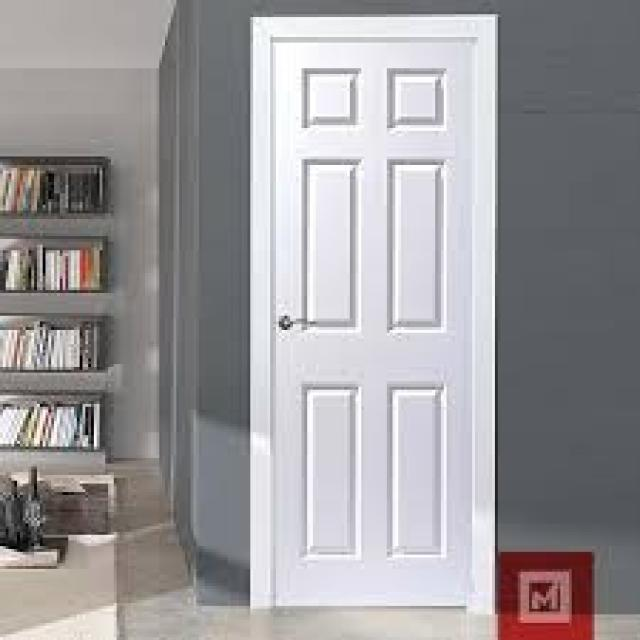door: (254, 13, 493, 610)
